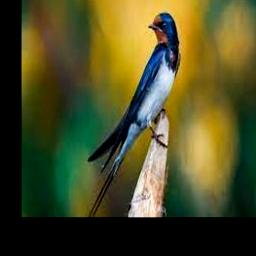Swallow: (88, 12, 179, 217)
